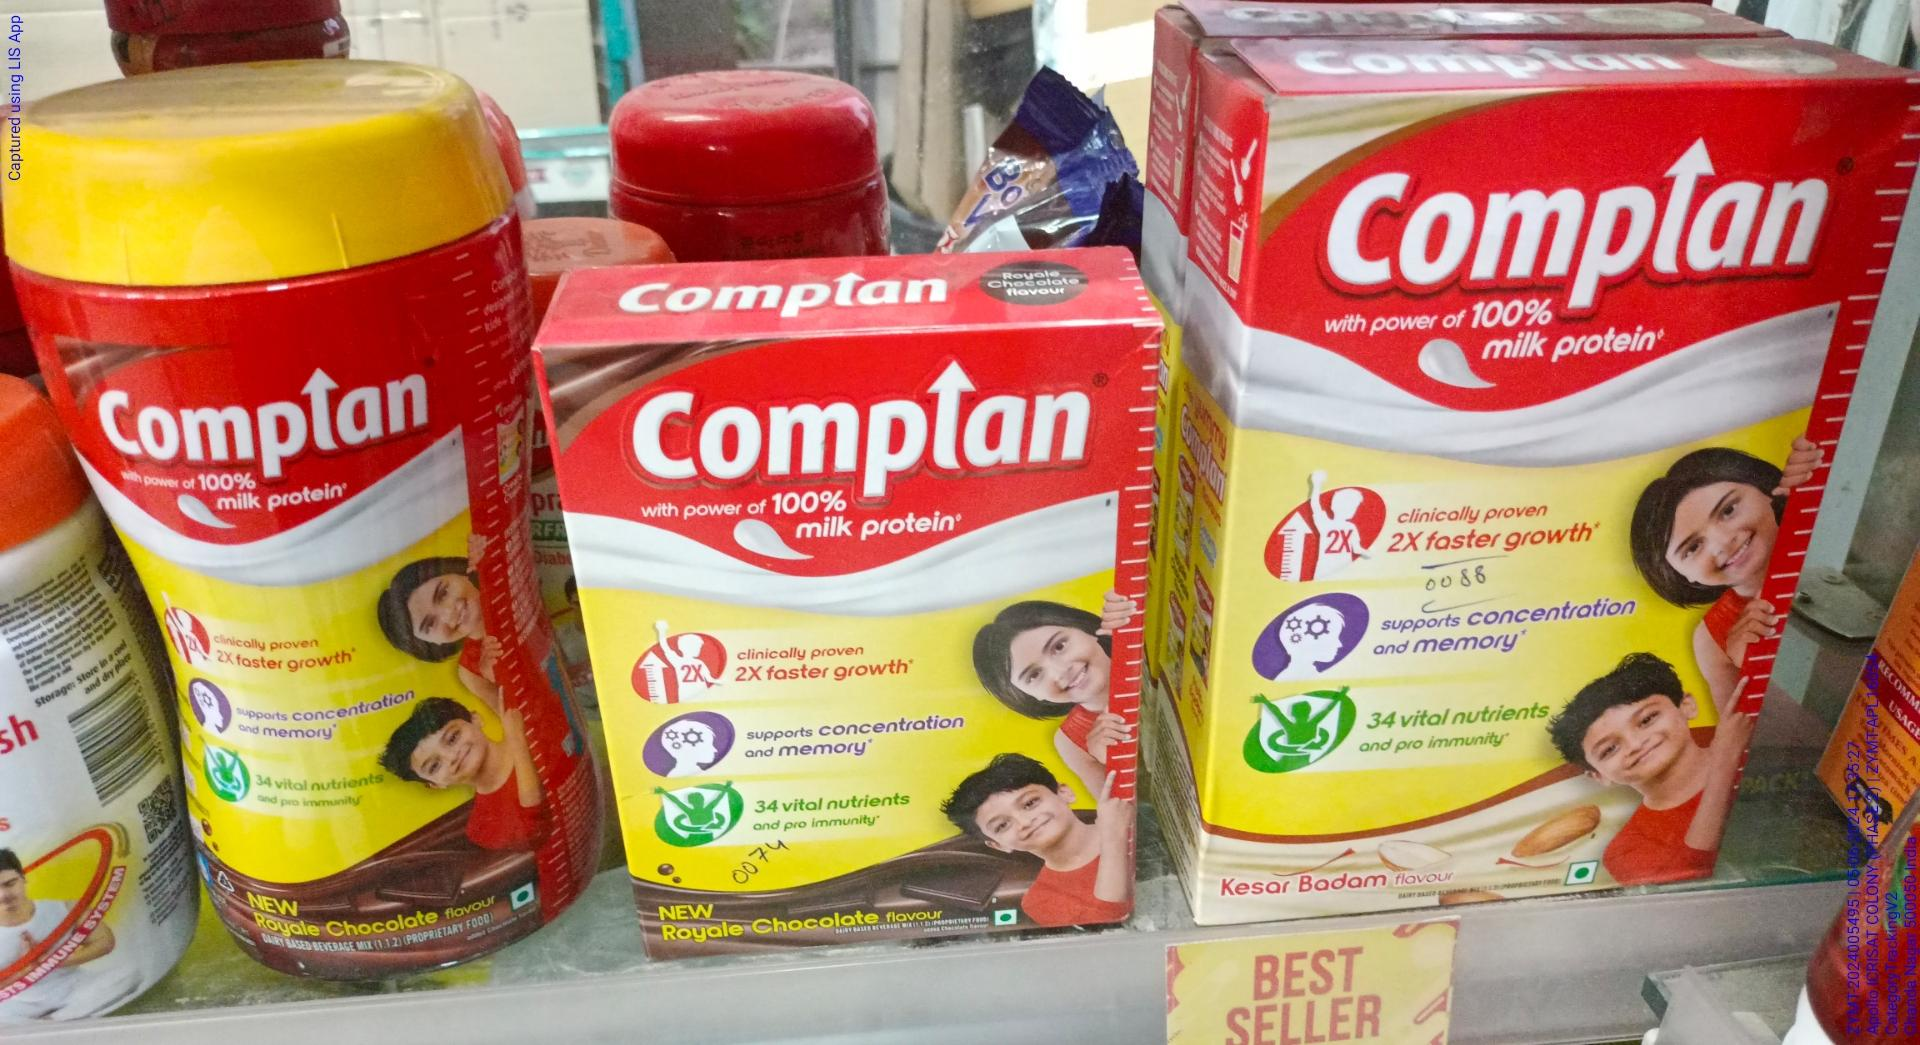COMPLAN_CHOCOLATE_200_GMS_PACK: (584, 332, 1168, 939)
COMPLAN_CHOCOLATE_500_GMS_JAR: (98, 62, 571, 976)
COMPLAN_KESAR_BADAM_500_GMS_PACK: (1239, 58, 1849, 932)
